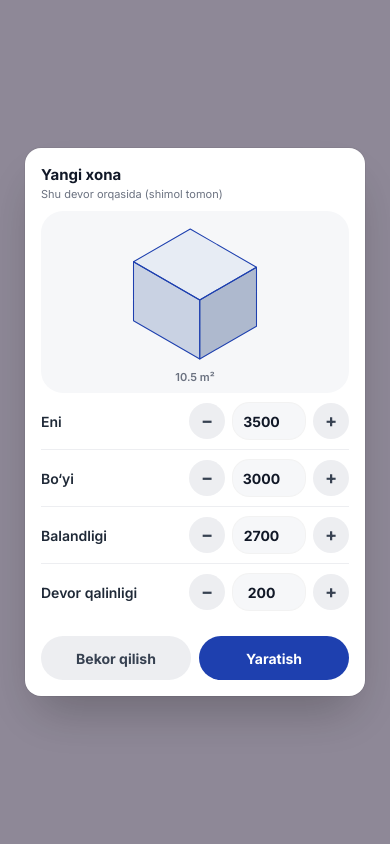
Test: NewRoomSheet › steps the wall in centimetres, not tenths of a metre
This screenshot has width=390, height=844.
Click the button named "Devor qalinligi oshirish" at (331, 592), box top-left (313, 574), bottom-right (349, 610)
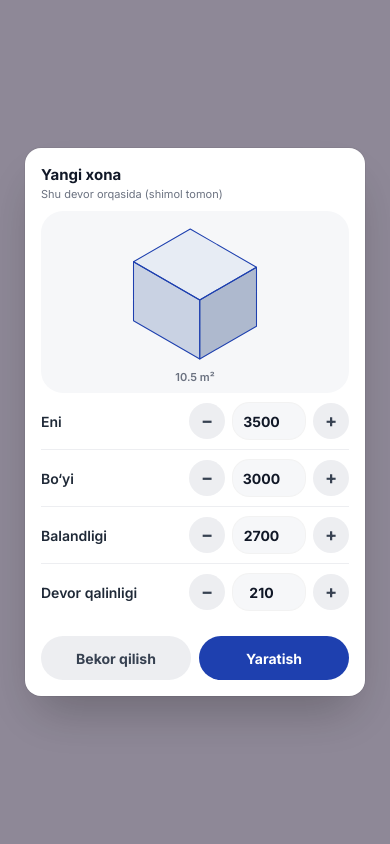
Expected: the number field named "Devor qalinligi, mm" holds "210", top-left (233, 574), bottom-right (305, 610)
